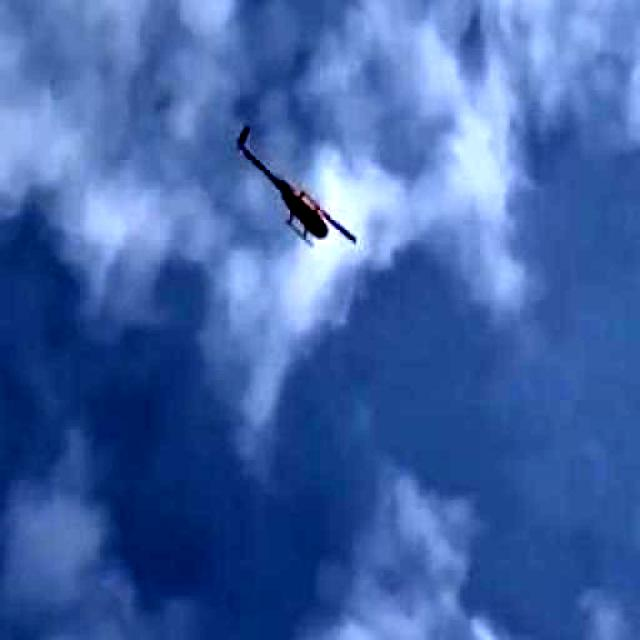drone: (199, 105, 379, 331)
